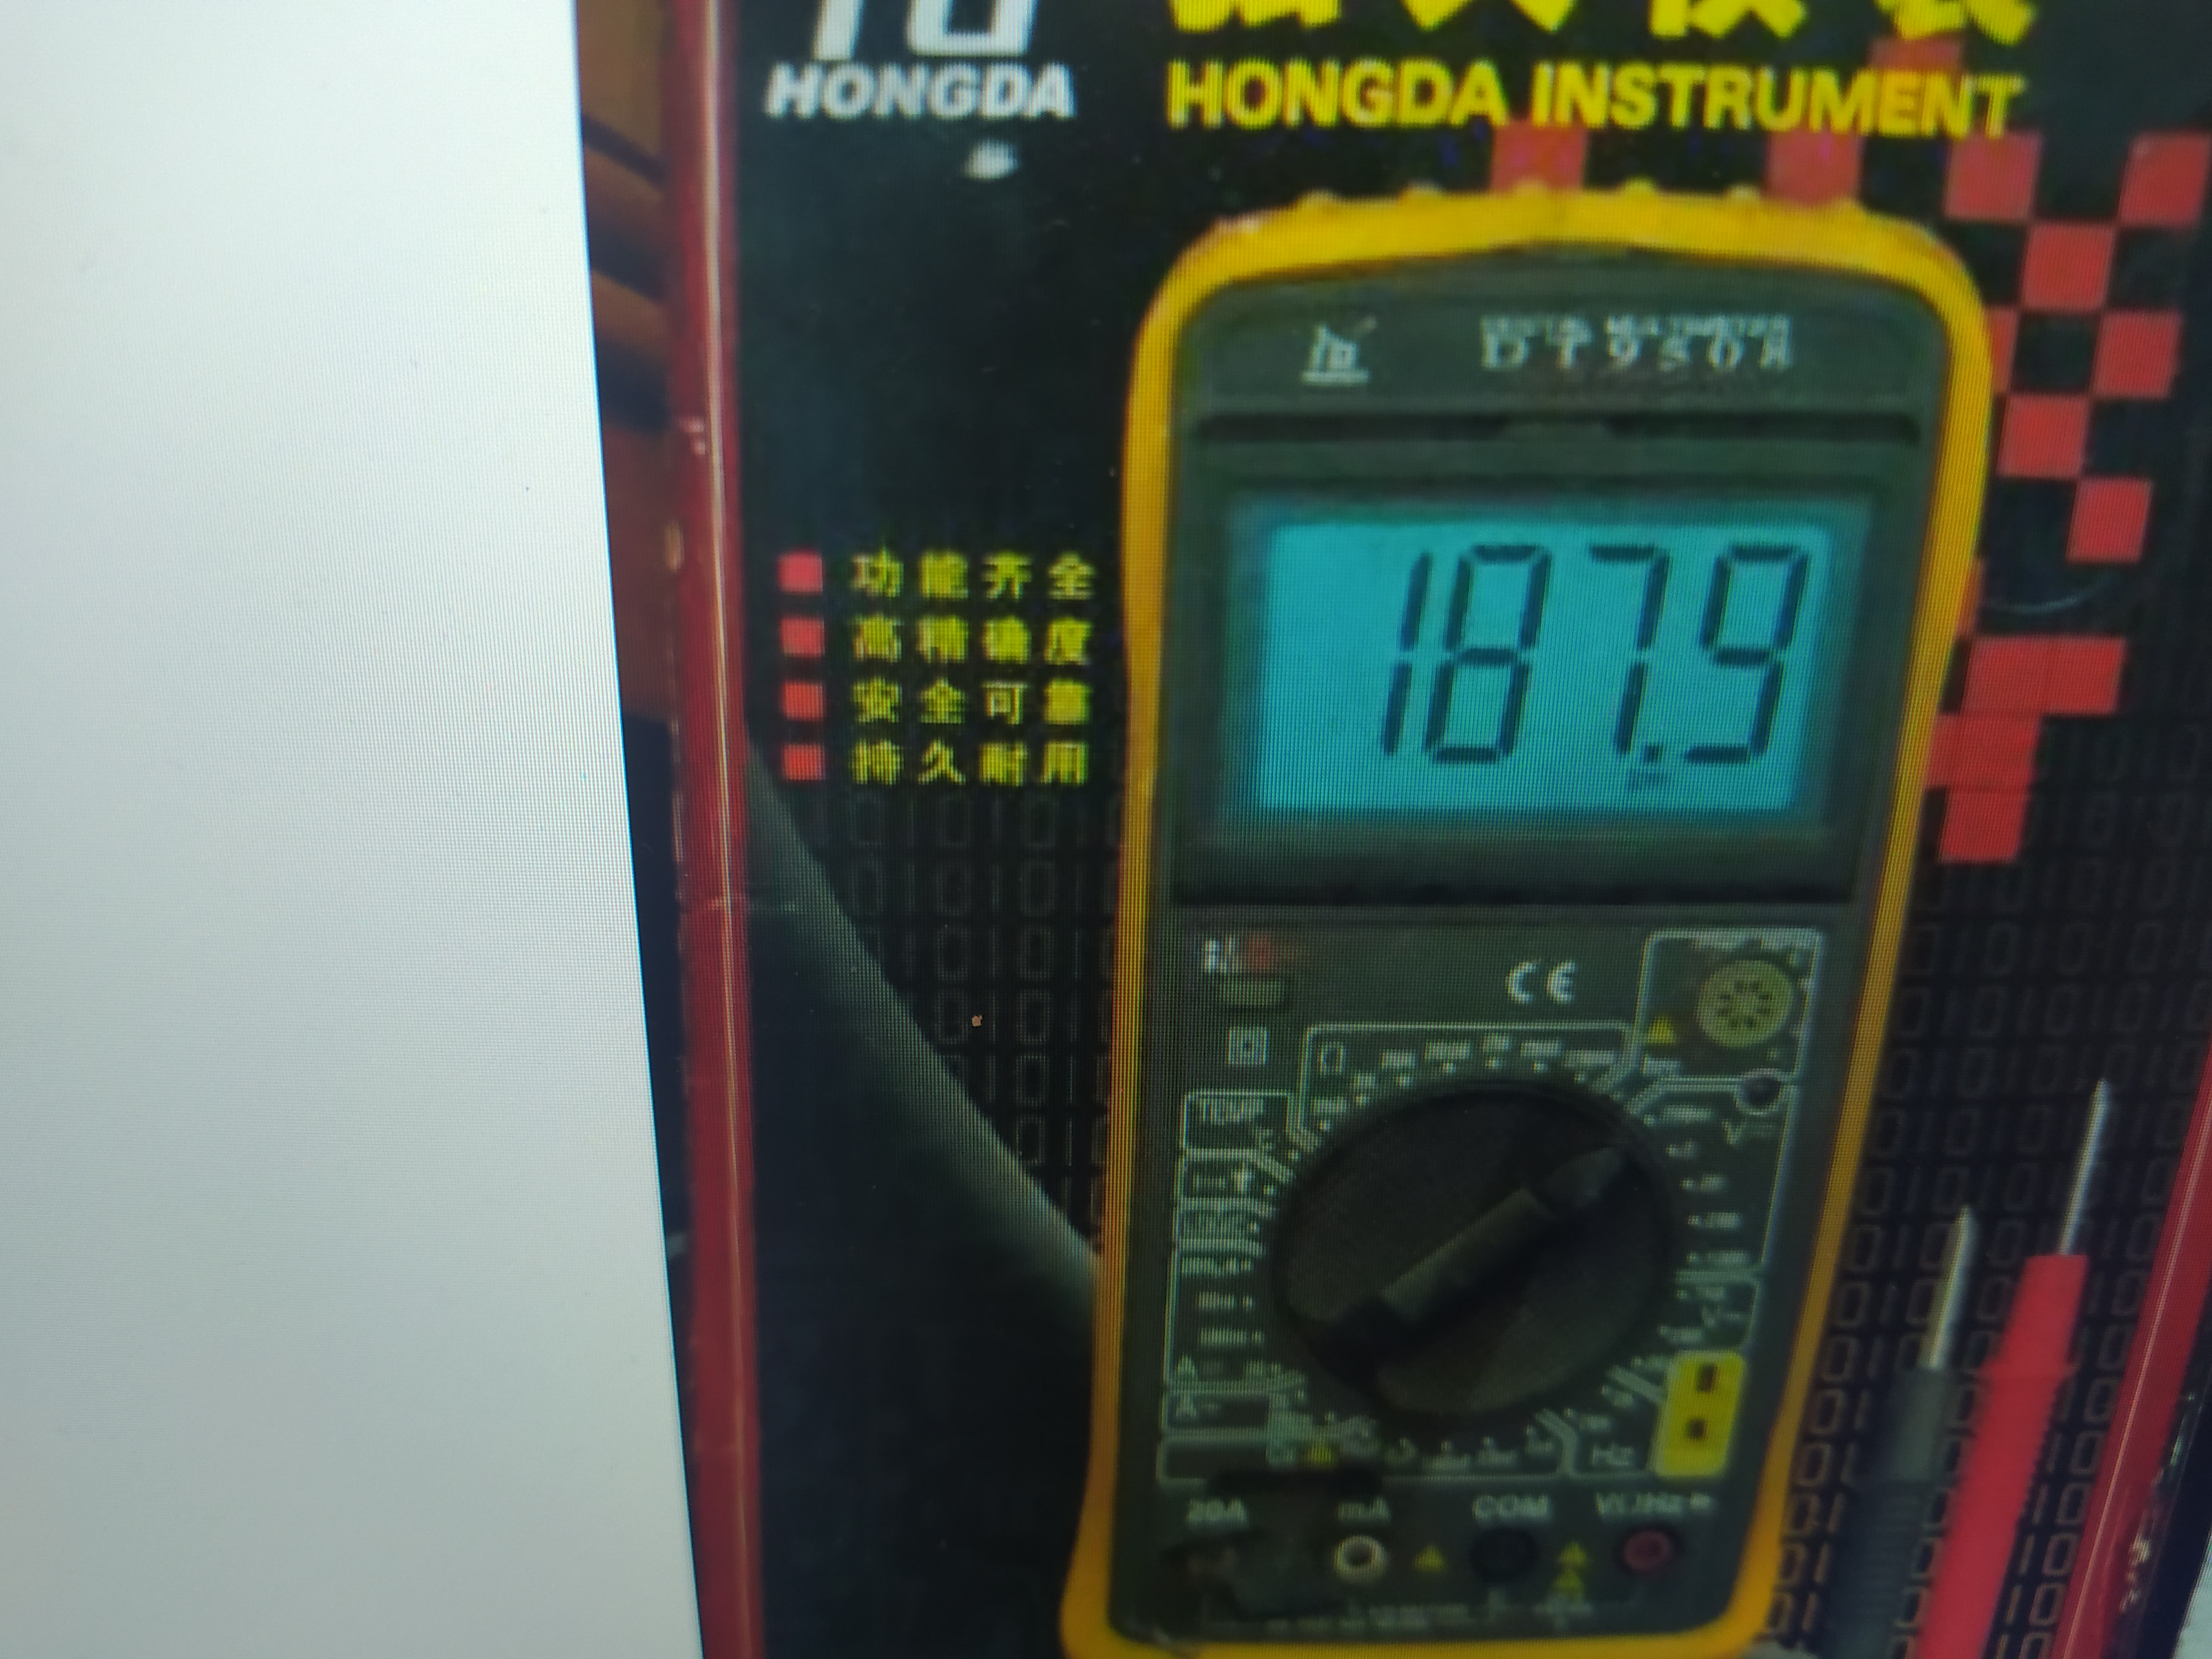.: (1642, 538, 1670, 763)
1: (1362, 540, 1430, 763)
7: (1583, 542, 1672, 762)
8: (1430, 542, 1555, 765)
9: (1684, 537, 1815, 763)
